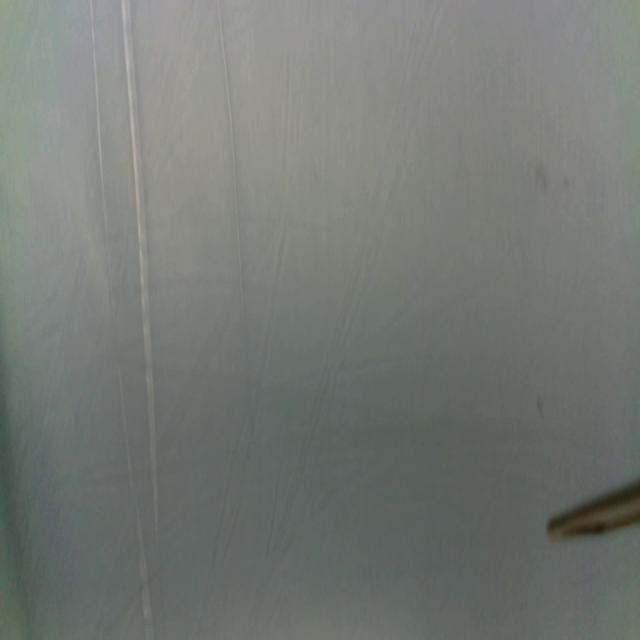crease: (120, 0, 156, 482), (214, 0, 246, 338), (118, 363, 154, 639), (90, 0, 114, 313)
